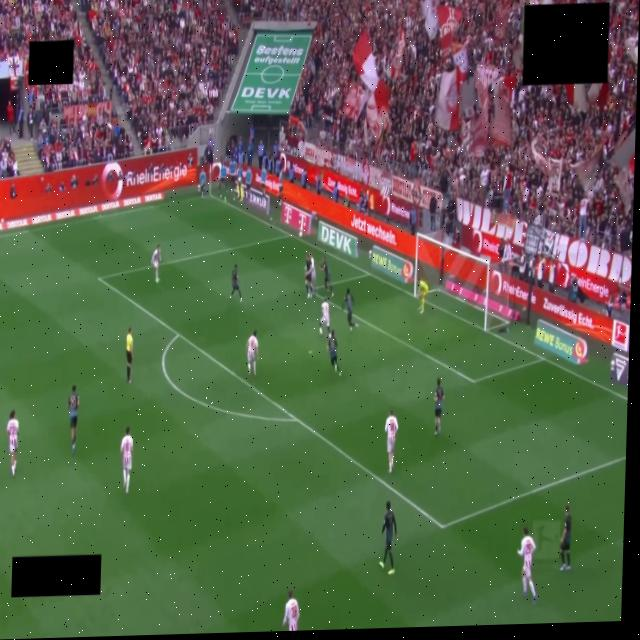player: (518, 528, 536, 603), (380, 501, 396, 575), (385, 411, 398, 473), (121, 427, 133, 493), (7, 410, 18, 477), (68, 385, 79, 452), (560, 505, 571, 571), (282, 591, 299, 630), (327, 330, 341, 376), (342, 288, 357, 330), (434, 379, 444, 435), (246, 330, 258, 375), (230, 265, 242, 302), (322, 256, 333, 296), (320, 298, 330, 334), (151, 244, 160, 282), (418, 279, 428, 313), (305, 254, 312, 299), (310, 255, 316, 292)
referee: (126, 328, 133, 383)
